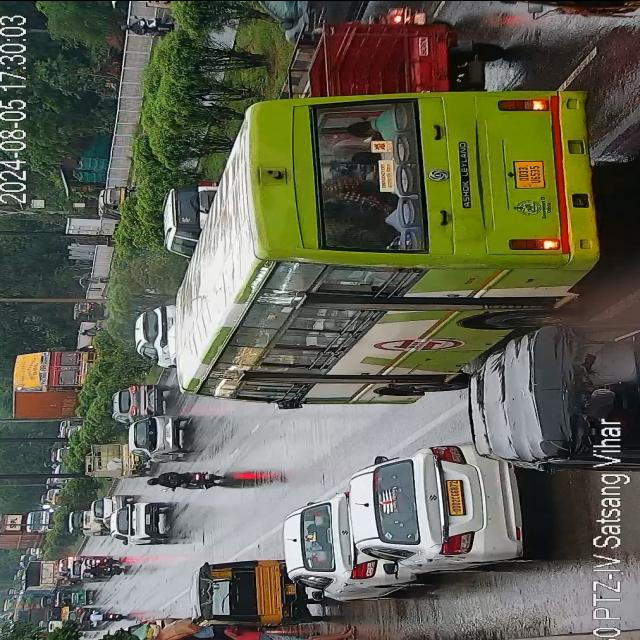2-wheelers: (101, 10, 180, 38), (139, 466, 229, 490), (83, 605, 131, 623), (66, 323, 110, 339), (76, 272, 112, 288), (86, 562, 124, 576), (84, 554, 124, 566)
auto: (198, 561, 318, 622), (91, 183, 132, 216), (60, 298, 108, 322), (55, 588, 96, 606)
bus: (167, 92, 598, 406)
car: (358, 449, 510, 574), (281, 490, 418, 600), (155, 175, 207, 249), (135, 299, 181, 366), (107, 500, 173, 546), (130, 412, 188, 462), (110, 378, 172, 420), (85, 492, 133, 524), (64, 510, 104, 535), (96, 0, 183, 7), (56, 550, 80, 572)
pedestrian: (217, 627, 342, 640), (150, 623, 234, 638), (249, 629, 361, 640)
truck: (316, 18, 480, 92), (4, 344, 88, 418), (80, 442, 140, 477), (0, 508, 52, 546), (17, 556, 70, 592)
